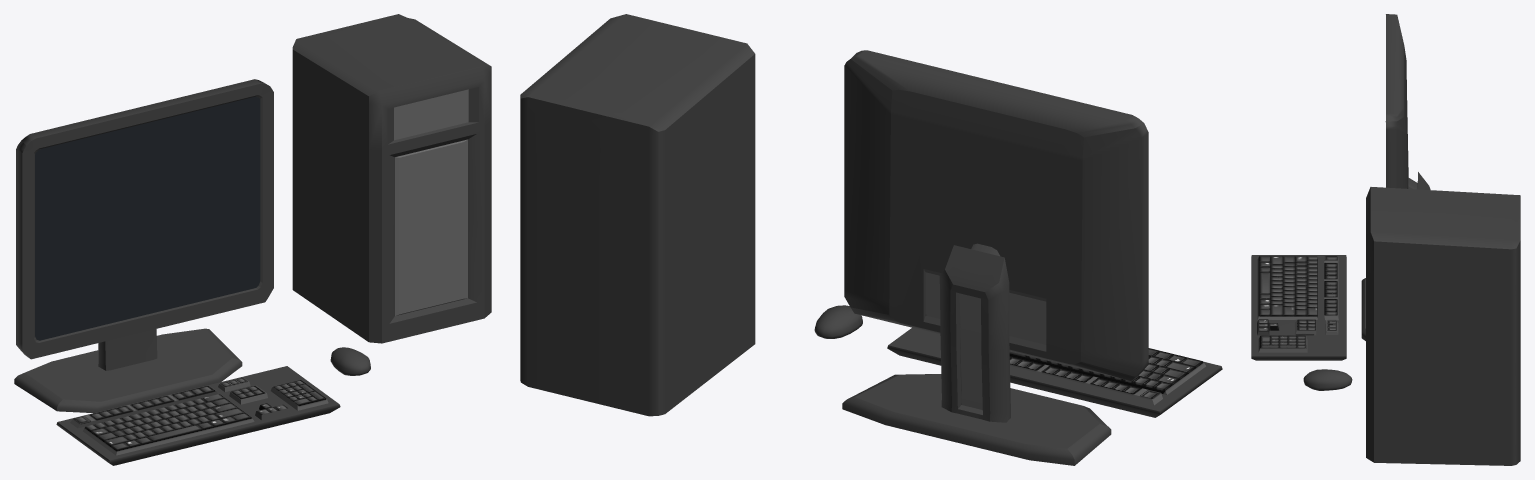
File: ComputerTec.fbx
The picture shows the model from 3 angles, left to right: view 1: azimuth 30°, elevation 25°; view 2: azimuth 150°, elevation 25°; view 3: azimuth 270°, elevation 25°; orthographic projection. The views are drawn at different scales.
Parts seen in each view (by area): view 1: ScieComputerMoniter1; view 2: ScieComputerMoniter1; view 3: ScieComputerMoniter1.
Boxes of the visible parts, x1,y1,x2,y2 form: ScieComputerMoniter1: (14,14,491,465); ScieComputerMoniter1: (520,14,1222,465); ScieComputerMoniter1: (1251,14,1520,465).
Bounding box in the file's own units: 92.71 × 54.05 × 51.89.
